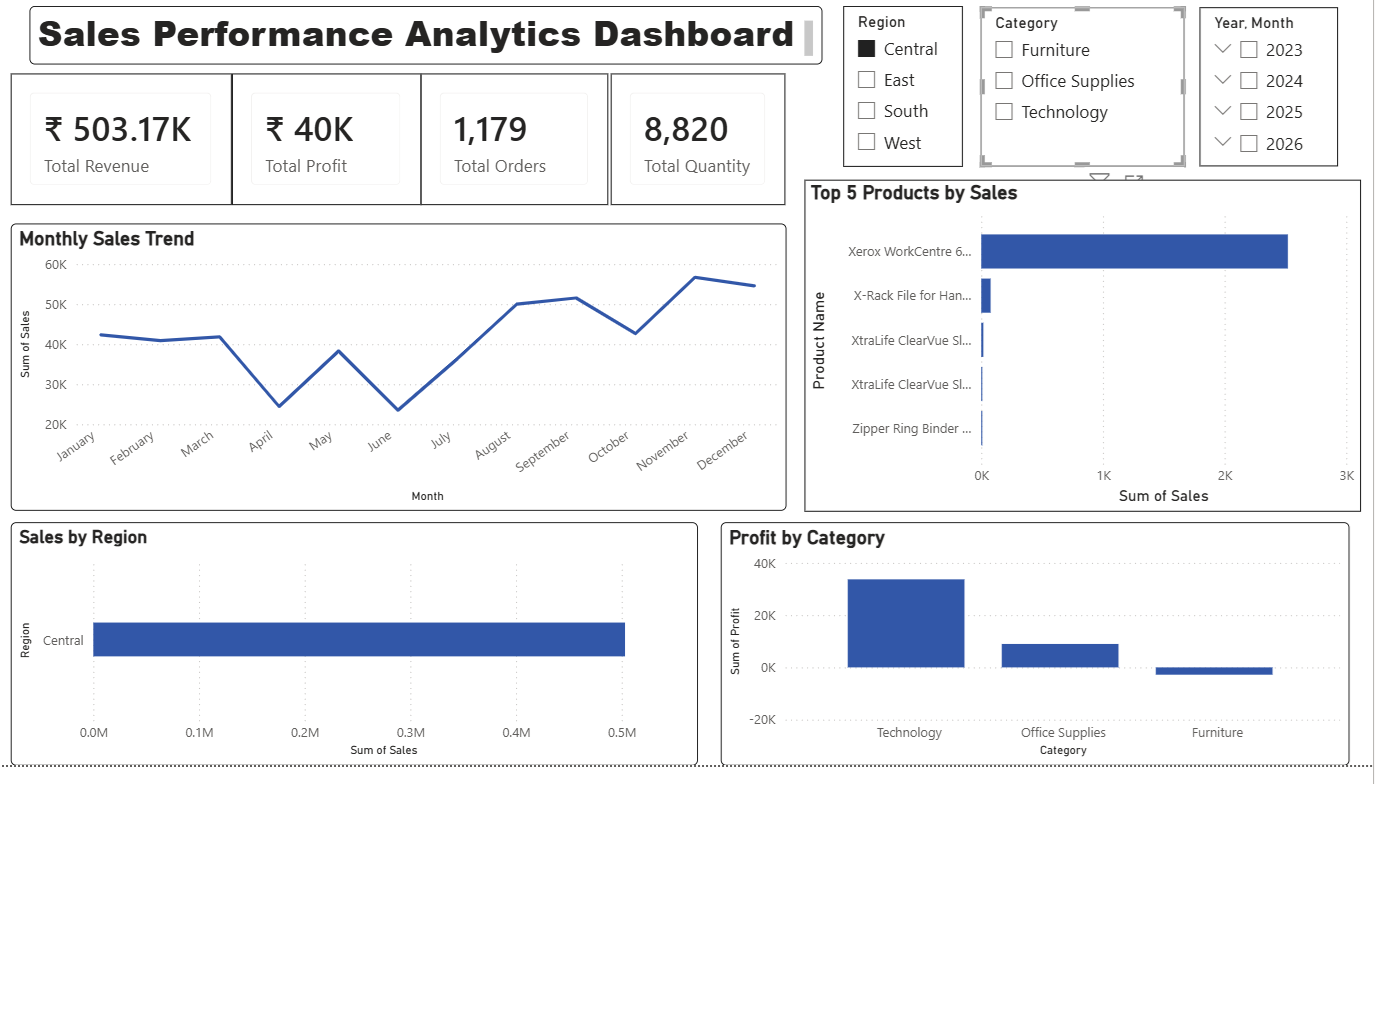

The dashboard page shown, as its layout file describes it:
{"tool":"powerbi","page":{"name":"Page 1","canvas":[1280,720],"ordinal":0},"visuals":[{"type":"cardVisual","fields":{"Data":["Sum(samplesuperstore.Sales)"]},"box":[12.3,76.8,205.8,122.1],"z":0},{"type":"cardVisual","fields":{"Data":["Sum(samplesuperstore.Profit)"]},"box":[218.2,76.8,175.6,122.1],"z":1000},{"type":"cardVisual","fields":{"Data":["Count(samplesuperstore.Order ID)"]},"box":[394.2,76.7,174.4,122.1],"z":2000},{"type":"cardVisual","fields":{"Data":["Sum(samplesuperstore.Quantity)"]},"box":[570.9,76.7,162.8,122.1],"z":3000},{"type":"lineChart","title":"Monthly Sales Trend","fields":{"Y":["Sum(samplesuperstore.Sales)"],"Category":["samplesuperstore.Order Date.Variation.Date Hierarchy.Month"]},"box":[12.3,216.8,721.8,267.6],"z":4000},{"type":"clusteredBarChart","title":"Sales by Region","fields":{"Category":["samplesuperstore.Region"],"Y":["Sum(samplesuperstore.Sales)"]},"box":[12.3,494,639.5,226.4],"z":5000},{"type":"clusteredColumnChart","title":"Profit by Category","fields":{"Category":["samplesuperstore.Category"],"Y":["Sum(samplesuperstore.Profit)"]},"box":[673.8,494,584.6,226.4],"z":6000},{"type":"slicer","fields":{"Values":["samplesuperstore.Region"]},"box":[787.7,13.7,111.1,149.6],"z":7000},{"type":"slicer","fields":{"Values":["samplesuperstore.Category"]},"box":[915.3,15.1,189.4,148.2],"z":8000},{"type":"slicer","fields":{"Values":["samplesuperstore.Order Date.Variation.Date Hierarchy.Year","samplesuperstore.Order Date.Variation.Date Hierarchy.Month"]},"box":[1118.4,15.1,129,148.2],"z":9000},{"type":"textbox","box":[30.2,14,737.2,54.7],"z":10000},{"type":"barChart","title":"Top 5 Products by Sales","fields":{"Category":["samplesuperstore.Product Name"],"Y":["Sum(samplesuperstore.Sales)"]},"box":[750.6,175.6,517.3,308.7],"z":11000}]}

Visuals, with their boxes in screenshot pixels (x1, y1, x2, y2):
cardVisual - Sum(samplesuperstore.Sales): <bbox>13, 75, 233, 205</bbox>
cardVisual - Sum(samplesuperstore.Profit): <bbox>233, 75, 420, 205</bbox>
cardVisual - Count(samplesuperstore.Order ID): <bbox>420, 75, 606, 205</bbox>
cardVisual - Sum(samplesuperstore.Quantity): <bbox>609, 75, 782, 205</bbox>
"Monthly Sales Trend" lineChart: <bbox>13, 224, 783, 509</bbox>
"Sales by Region" clusteredBarChart: <bbox>13, 520, 695, 761</bbox>
"Profit by Category" clusteredColumnChart: <bbox>718, 520, 1342, 761</bbox>
slicer - samplesuperstore.Region: <bbox>840, 7, 958, 167</bbox>
slicer - samplesuperstore.Category: <bbox>976, 9, 1178, 167</bbox>
slicer - samplesuperstore.Order Date.Variation.Date Hierarchy.Year x samplesuperstore.Order Date.Variation.Date Hierarchy.Month: <bbox>1193, 9, 1330, 167</bbox>
textbox: <bbox>32, 8, 818, 66</bbox>
"Top 5 Products by Sales" barChart: <bbox>800, 180, 1352, 509</bbox>
